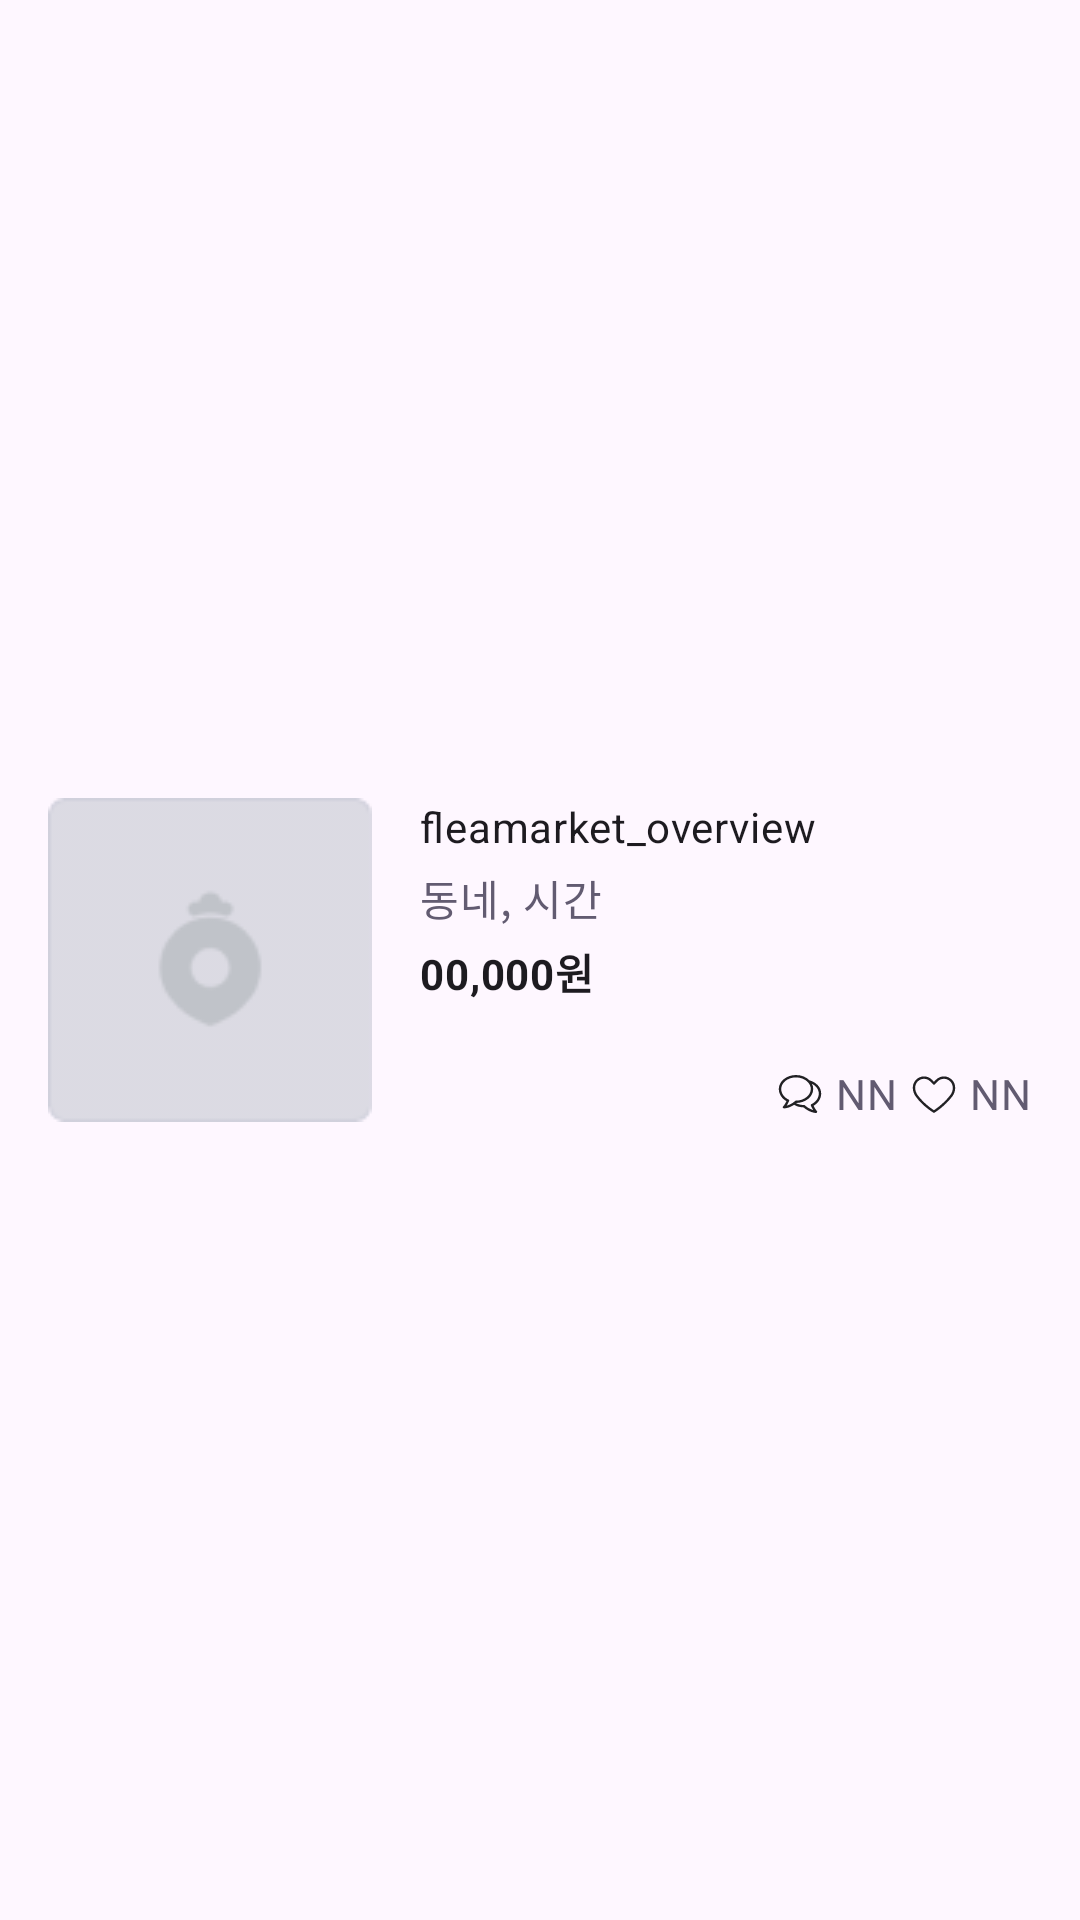

Where icons sit on this 1080*1920 app screen, as region(x1, y1, x2, y2):
chatting: region(778, 1075, 822, 1113)
heart: region(912, 1076, 956, 1113)
